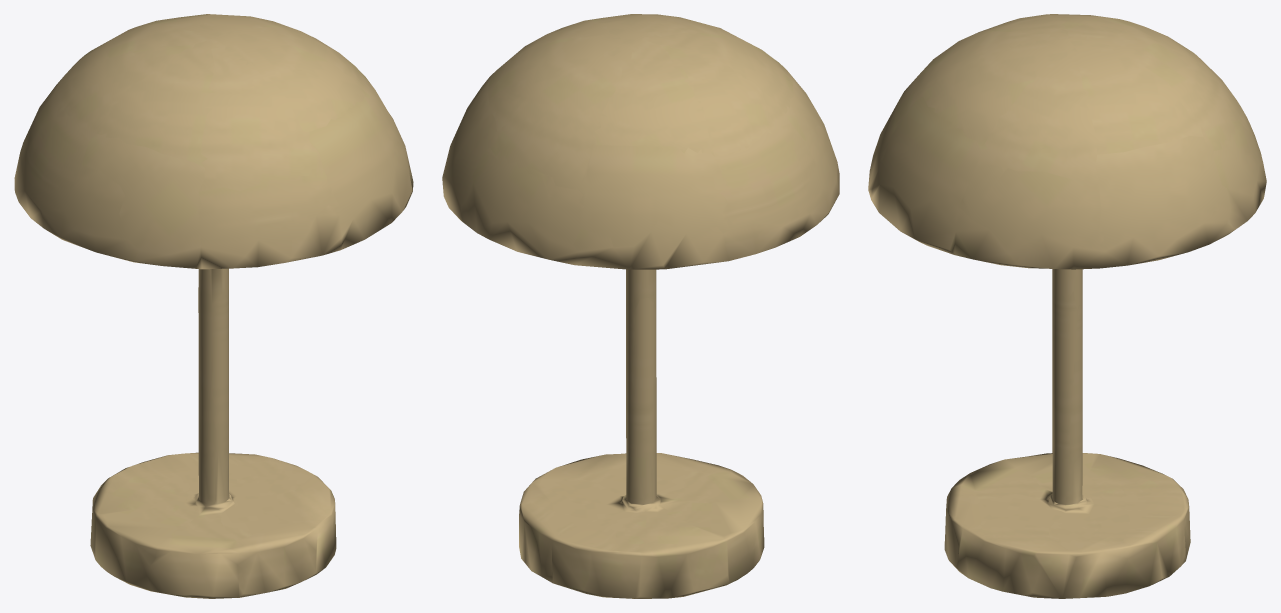
The model's file is lamp.lod2.glb.
3 views of the same model, side by side, from view 1: azimuth 30°, elevation 25°; view 2: azimuth 150°, elevation 25°; view 3: azimuth 270°, elevation 25° (orthographic).
Visible parts, largest first — view 1: tripo_node_78f1ac23-4524-4043-8bfb-d6bcad0a56e8; view 2: tripo_node_78f1ac23-4524-4043-8bfb-d6bcad0a56e8; view 3: tripo_node_78f1ac23-4524-4043-8bfb-d6bcad0a56e8.
Boxes of the visible parts, box(x1,y1,x2,y2) form: tripo_node_78f1ac23-4524-4043-8bfb-d6bcad0a56e8: box(14, 14, 413, 598); tripo_node_78f1ac23-4524-4043-8bfb-d6bcad0a56e8: box(442, 14, 839, 598); tripo_node_78f1ac23-4524-4043-8bfb-d6bcad0a56e8: box(868, 14, 1266, 598).
Bounding box in the file's own units: 0.2961 × 0.4198 × 0.2958.
1 material, 1 textured.
